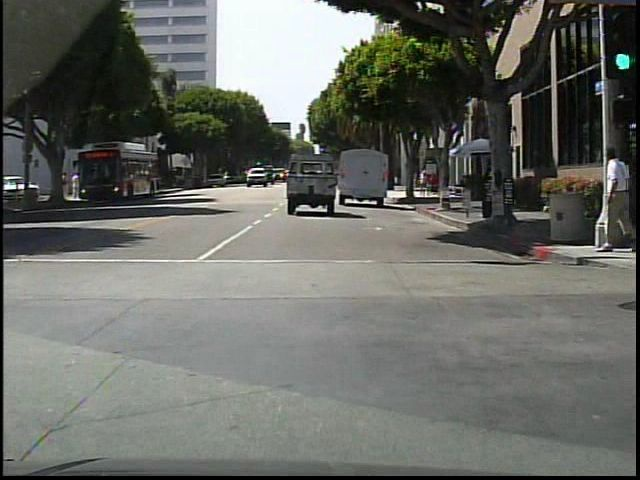person: (590, 148, 639, 252), (72, 171, 82, 200), (420, 171, 430, 198), (63, 171, 72, 200), (414, 168, 422, 198)
